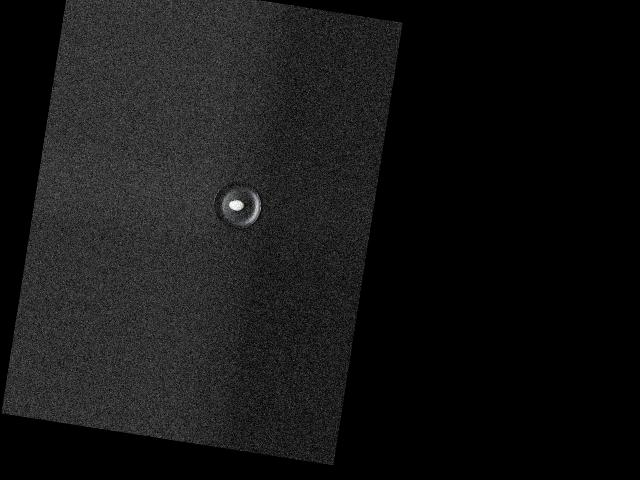egg: (228, 198, 245, 211)
